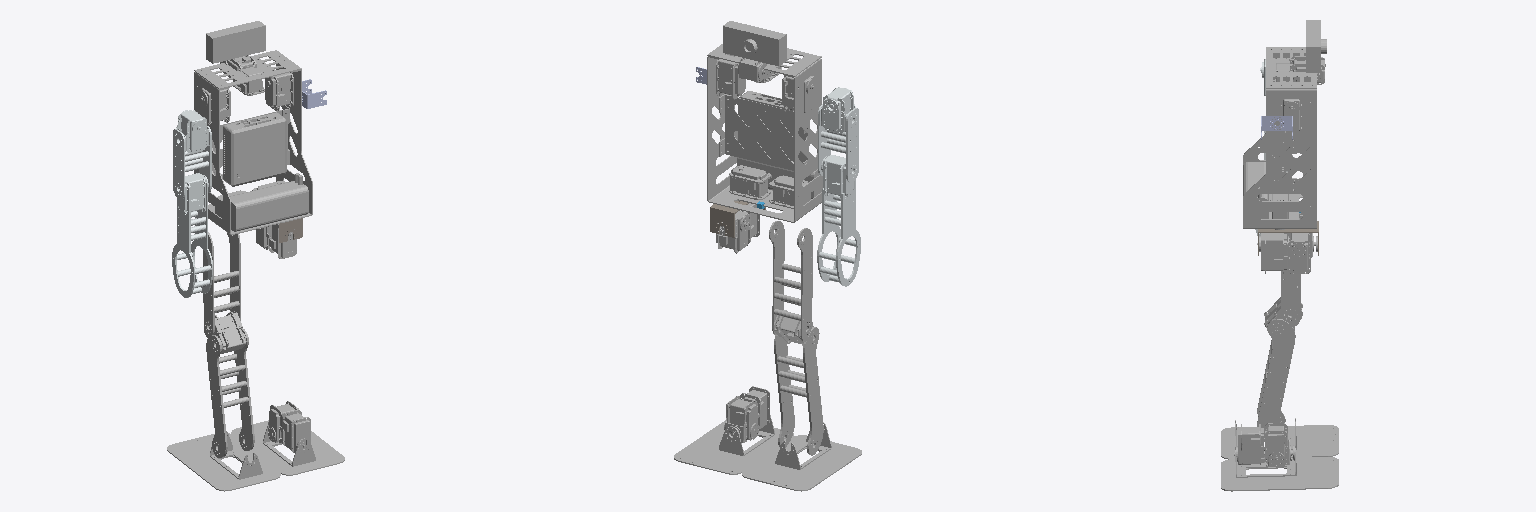
--- Render facts (derived) ---
The picture shows the robot from 3 angles, left to right: view 1: azimuth 30°, elevation 25°; view 2: azimuth 150°, elevation 25°; view 3: azimuth 270°, elevation 25°; orthographic projection.
Robot: SAKURA — 30 links, 29 joints (8 revolute, 19 continuous, 1 fixed, 1 floating); root link world; default pose: joints at zero except 8 at the middle of their limits (J_LLEG1_BACK = 0.01, J_LLEG2_BACK = 0.01, J_LLEG3_BACK = 0.01, J_LLEG4_BACK = 0.01, J_RLEG1_BACK = 0.01, J_RLEG2_BACK = 0.01, +2 more).
Visible links, largest first — view 1: TRUNK, LFOOT, LLEG3, LARM2, LLEG2, LARM1, RFOOT, HEAD, RLEG4, RLEG1; view 2: TRUNK, LFOOT, LARM2, LLEG2, LLEG3, RFOOT, LARM1, HEAD, RLEG4, RLEG1, RLEG0; view 3: TRUNK, RFOOT, LLEG3, RLEG4, RLEG1, LFOOT, LLEG2, HEAD.
Link boxes in pixels (x1,y1,x2,y2): TRUNK: (194,50,312,234); LFOOT: (167,431,280,491); LLEG3: (206,328,254,457); LARM2: (172,173,212,297); LLEG2: (203,232,246,353); LARM1: (173,110,211,199); RFOOT: (231,420,344,475); HEAD: (206,21,265,80); RLEG4: (268,401,310,452); RLEG1: (256,224,296,258); TRUNK: (707,44,822,222); LFOOT: (742,422,861,491); LARM2: (817,155,860,286); LLEG2: (769,221,813,345); LLEG3: (774,327,823,455); RFOOT: (674,415,793,474); LARM1: (818,87,858,182); HEAD: (723,21,786,82); RLEG4: (724,386,769,442); RLEG1: (716,203,759,253); RLEG0: (710,201,765,237); TRUNK: (1243,47,1316,229); RFOOT: (1221,445,1338,491); LLEG3: (1257,319,1295,437); RLEG4: (1234,423,1294,466); RLEG1: (1257,233,1317,273); LFOOT: (1221,418,1338,459); LLEG2: (1264,213,1302,331); HEAD: (1289,20,1326,84).
Bounding box of the posed robot: 0.2953 × 0.208 × 0.8198 m (x, y, z).
12 mesh visuals loaded from 20 distinct referenced files (12 binary STL); not drawn: 8 (reference not matched to a file when rendering).

URDF robot description (SAKURA):
<?xml version="1.0"?>
<robot
  name="SAKURA">	
  <gazebo reference="imu_link">
    <gravity>true</gravity>
    <sensor name="imu_sensor" type="imu">
      <always_on>true</always_on>
      <update_rate>125</update_rate>
      <visualize>true</visualize>
      <topic>__default_topic__</topic>
      <plugin filename="libgazebo_ros_imu_sensor.so" name="imu_plugin">
        <topicName>imu/data_raw</topicName>
        <bodyName>imu_link</bodyName>
        <updateRateHZ>125.0</updateRateHZ>
        <gaussianNoise>0.0</gaussianNoise>
        <xyzOffset>0 0 0</xyzOffset>
        <rpyOffset>0 0 0</rpyOffset>
        <frameName>imu_link</frameName>
      </plugin>
      <pose>0 0 0 0 0 0</pose>
    </sensor>
  </gazebo>
  <gazebo>
    <plugin filename="libgazebo_ros_control.so" name="gazebo_ros_control">
      <robotNamespace>/SAKURA</robotNamespace>
      <robotSimType>gazebo_ros_control/DefaultRobotHWSim</robotSimType>
    </plugin>
  </gazebo>
  <gazebo reference="J_HEAD">
	<stopErp>0.2</stopErp>
	<provideFeedback>true</provideFeedback>
  </gazebo>  
  <gazebo reference="J_LARM0">
	<stopErp>0.2</stopErp>
	<provideFeedback>true</provideFeedback>
  </gazebo>  
  <gazebo reference="J_LARM1">
	<stopErp>0.2</stopErp>
	<provideFeedback>true</provideFeedback>
  </gazebo>  
  <gazebo reference="J_LARM2">
	<stopErp>0.2</stopErp>
	<provideFeedback>true</provideFeedback>
  </gazebo>  
  <gazebo reference="J_RARM0">
	<stopErp>0.2</stopErp>
	<provideFeedback>true</provideFeedback>
  </gazebo>  
  <gazebo reference="J_RARM1">
	<stopErp>0.2</stopErp>
	<provideFeedback>true</provideFeedback>
  </gazebo>  
  <gazebo reference="J_LLEG0">
	<stopErp>0.2</stopErp>
	<provideFeedback>true</provideFeedback>
  </gazebo>  
  <gazebo reference="J_LLEG1">
	<stopErp>0.2</stopErp>
	<provideFeedback>true</provideFeedback>
  </gazebo>  
  <gazebo reference="J_LLEG2">
	<stopErp>0.2</stopErp>
	<provideFeedback>true</provideFeedback>
  </gazebo>  
  <gazebo reference="J_LLEG3">
	<stopErp>0.2</stopErp>
	<provideFeedback>true</provideFeedback>
  </gazebo>  
  <gazebo reference="J_LLEG4">
	<stopErp>0.2</stopErp>
	<provideFeedback>true</provideFeedback>
  </gazebo>  
  <gazebo reference="J_RLEG0">
	<stopErp>0.2</stopErp>
	<provideFeedback>true</provideFeedback>
  </gazebo>  
  <gazebo reference="J_RLEG1">
	<stopErp>0.2</stopErp>
	<provideFeedback>true</provideFeedback>
  </gazebo>  
  <gazebo reference="J_RLEG2">
	<stopErp>0.2</stopErp>
	<provideFeedback>true</provideFeedback>
  </gazebo>  
  <gazebo reference="J_RLEG3">
	<stopErp>0.2</stopErp>
	<provideFeedback>true</provideFeedback>
  </gazebo>  
  <gazebo reference="J_RLEG4">
	<stopErp>0.2</stopErp>
	<provideFeedback>true</provideFeedback>
  </gazebo> 
  <gazebo reference="J_RARM2">
	<stopErp>0.2</stopErp>
	<provideFeedback>true</provideFeedback>
  </gazebo> 
  <gazebo reference="J_LFOOT">
	<stopErp>0.2</stopErp>
	<provideFeedback>true</provideFeedback>
  </gazebo>  
  <gazebo reference="J_RFOOT">
	<stopErp>0.2</stopErp>
	<provideFeedback>true</provideFeedback>
  </gazebo>  
  <gazebo reference="RFOOT">
    <mu1>1.0</mu1>
    <mu2>1.0</mu2>
    <kp>1220000.0</kp>
    <kd>1.0</kd> <!---->
  </gazebo>
  <gazebo reference="LFOOT">
    <mu1>1.0</mu1>
    <mu2>1.0</mu2>
    <kp>1220000.0</kp>
    <kd>1.0</kd> <!---->
  </gazebo>
  
<!-- FT SENSORS -->
  <gazebo>
	<plugin name="ft_sensor" filename="libgazebo_ros_ft_sensor.so">
	  <updateRate>100.0</updateRate>
	  <topicName>ft_sensor_larm0</topicName>
	  <jointName>J_LARM0</jointName>
	</plugin>
  </gazebo>
  <gazebo>
	<plugin name="ft_sensor" filename="libgazebo_ros_ft_sensor.so">
	  <updateRate>100.0</updateRate>
	  <topicName>ft_sensor_larm1</topicName>
	  <jointName>J_LARM1</jointName>
	</plugin>
  </gazebo>
  <gazebo>
	<plugin name="ft_sensor" filename="libgazebo_ros_ft_sensor.so">
	  <updateRate>100.0</updateRate>
	  <topicName>ft_sensor_larm2</topicName>
	  <jointName>J_LARM2</jointName>
	</plugin>
  </gazebo>
  
  
    <gazebo>
	<plugin name="ft_sensor" filename="libgazebo_ros_ft_sensor.so">
	  <updateRate>100.0</updateRate>
	  <topicName>ft_sensor_rarm0</topicName>
	  <jointName>J_RARM0</jointName>
	</plugin>
  </gazebo>
  <gazebo>
	<plugin name="ft_sensor" filename="libgazebo_ros_ft_sensor.so">
	  <updateRate>100.0</updateRate>
	  <topicName>ft_sensor_rarm1</topicName>
	  <jointName>J_RARM1</jointName>
	</plugin>
  </gazebo>
  <gazebo>
	<plugin name="ft_sensor" filename="libgazebo_ros_ft_sensor.so">
	  <updateRate>100.0</updateRate>
	  <topicName>ft_sensor_rarm2</topicName>
	  <jointName>J_RARM2</jointName>
	</plugin>
  </gazebo>
  
  
  
  <gazebo>
	<plugin name="ft_sensor" filename="libgazebo_ros_ft_sensor.so">
	  <updateRate>100.0</updateRate>
	  <topicName>ft_sensor_lleg0</topicName>
	  <jointName>J_LLEG0</jointName>
	</plugin>
  </gazebo>
    <gazebo>
	<plugin name="ft_sensor" filename="libgazebo_ros_ft_sensor.so">
	  <updateRate>100.0</updateRate>
	  <topicName>ft_sensor_lleg1</topicName>
	  <jointName>J_LLEG1</jointName>
	</plugin>
  </gazebo>
    <gazebo>
	<plugin name="ft_sensor" filename="libgazebo_ros_ft_sensor.so">
	  <updateRate>100.0</updateRate>
	  <topicName>ft_sensor_lleg2</topicName>
	  <jointName>J_LLEG2</jointName>
	</plugin>
  </gazebo>
    <gazebo>
	<plugin name="ft_sensor" filename="libgazebo_ros_ft_sensor.so">
	  <updateRate>100.0</updateRate>
	  <topicName>ft_sensor_lleg3</topicName>
	  <jointName>J_LLEG3</jointName>
	</plugin>
  </gazebo>
    <gazebo>
	<plugin name="ft_sensor" filename="libgazebo_ros_ft_sensor.so">
	  <updateRate>100.0</updateRate>
	  <topicName>ft_sensor_lleg4</topicName>
	  <jointName>J_LLEG4</jointName>
	</plugin>
  </gazebo>
    <gazebo>
	<plugin name="ft_sensor" filename="libgazebo_ros_ft_sensor.so">
	  <updateRate>100.0</updateRate>
	  <topicName>ft_sensor_lfoot</topicName>
	  <jointName>J_LFOOT</jointName>
	</plugin>
  </gazebo>
  
    <gazebo>
	<plugin name="ft_sensor" filename="libgazebo_ros_ft_sensor.so">
	  <updateRate>100.0</updateRate>
	  <topicName>ft_sensor_rleg0</topicName>
	  <jointName>J_RLEG0</jointName>
	</plugin>
  </gazebo>
    <gazebo>
	<plugin name="ft_sensor" filename="libgazebo_ros_ft_sensor.so">
	  <updateRate>100.0</updateRate>
	  <topicName>ft_sensor_rleg1</topicName>
	  <jointName>J_RLEG1</jointName>
	</plugin>
  </gazebo>
    <gazebo>
	<plugin name="ft_sensor" filename="libgazebo_ros_ft_sensor.so">
	  <updateRate>100.0</updateRate>
	  <topicName>ft_sensor_rleg2</topicName>
	  <jointName>J_RLEG2</jointName>
	</plugin>
  </gazebo>
    <gazebo>
	<plugin name="ft_sensor" filename="libgazebo_ros_ft_sensor.so">
	  <updateRate>100.0</updateRate>
	  <topicName>ft_sensor_rleg3</topicName>
	  <jointName>J_RLEG3</jointName>
	</plugin>
  </gazebo>
    <gazebo>
	<plugin name="ft_sensor" filename="libgazebo_ros_ft_sensor.so">
	  <updateRate>100.0</updateRate>
	  <topicName>ft_sensor_rleg4</topicName>
	  <jointName>J_RLEG4</jointName>
	</plugin>
  </gazebo>
    <gazebo>
	<plugin name="ft_sensor" filename="libgazebo_ros_ft_sensor.so">
	  <updateRate>100.0</updateRate>
	  <topicName>ft_sensor_rfoot</topicName>
	  <jointName>J_RFOOT</jointName>
	</plugin>
  </gazebo>
  
  
  

  <link name="world">  </link>
  
  <link name="imu_link">
    <collision>
      <origin xyz="0 0 0" rpy="0 0 0"/>
      <geometry>
    <box size="0.01 0.01 0.01"/>
      </geometry>
    </collision>

    <visual>
      <origin xyz="0 0 0" rpy="0 0 0"/>
      <geometry>
    <box size="0.01 0.01 0.01"/>
      </geometry>
      <material name="red"/>
    </visual>

    <inertial>
      <mass value="1e-5" />
      <origin xyz="0 0 0" rpy="0 0 0"/>
      <inertia ixx="1e-6" ixy="0" ixz="0" iyy="1e-6" iyz="0" izz="1e-6" />
    </inertial>
  </link>
  <joint name="imu_joint" type="fixed">
    <axis xyz="-1 0 0" />
    <origin xyz="0 0 0" rpy="0 0 0"/>
    <parent link="TRUNK"/>
    <child link="imu_link"/>
  </joint>
  
  
  
  
  <link
    name="TRUNK">
    <inertial>
      <origin
        xyz="-0.000142944293532541 -0.0159940135836359 0.119253638413231"
        rpy="0 0 0" />
      <mass
        value="1.4778155091901" />
      <inertia
        ixx="0.0125398154437975"
        ixy="-2.68478156217668E-06"
        ixz="-7.17353402812125E-06"
        iyy="0.016695640033345"
        iyz="0.000776177026664091"
        izz="0.01567882258573842" />
    </inertial>
    <visual>
      <origin
        xyz="0 0 0"
        rpy="0 0 0" />
      <geometry>
        <mesh
          filename="package://sakura_description/meshes/TRUNK.STL" />
      </geometry>
      <material
        name="">
        <color
          rgba="0.752941176470588 0.752941176470588 0.752941176470588 1" />
      </material>
    </visual>
  </link>
  <joint name="fixed" type="floating">
    <parent link="world"/>
    <child link="TRUNK"/>
    <origin xyz="0 0 0.50" rpy="0 0 0"/>
  </joint>
  <link
    name="HEAD">
    <inertial>
      <origin
        xyz="-0.0038811 0.012249 0.048965"
        rpy="0 0 0" />
      <mass
        value="0.21462" />
      <inertia
        ixx="0.00110122"
        ixy="8.917E-07"
        ixz="4.6738E-06"
        iyy="0.001"
        iyz="-1.8633E-05"
        izz="0.001" />
    </inertial>
    <visual>
      <origin
        xyz="0 0 0"
        rpy="0 0 0" />
      <geometry>
        <mesh
          filename="package://sakura_description/meshes/HEAD.STL" />
      </geometry>
      <material
        name="">
        <color
          rgba="0.75294 0.75294 0.75294 1" />
      </material>
    </visual>
  </link>
  <joint
    name="J_HEAD"
    type="continuous">
    <origin
      xyz="0.0016 0.01125 0.2484"
      rpy="-1.2005E-15 -9.4278E-17 -2.3904E-16" />
    <parent
      link="TRUNK" />
    <child
      link="HEAD" />
    <axis
      xyz="0 0 1" />
    <limit
      effort="10"
      velocity="8.58" />
    <dynamics 
	  damping="0.7"
	  friction="0.5"/>
  </joint>
  <link
    name="LARM0">
    <inertial>
      <origin
        xyz="4.16333634234434E-17 2.77555756156289E-17 0.0103025666414173"
        rpy="0 0 0" />
      <mass
        value="0.0066175226097181" />
      <inertia
        ixx="1.E-03"
        ixy="0"
        ixz="0"
        iyy="1.E-03"
        iyz="0"
        izz="1.E-03" />
    </inertial>
    <visual>
      <origin
        xyz="0 0 0"
        rpy="0 0 0" />
      <geometry>
        <mesh
          filename="package://sakura_description/meshes/LARM0.STL" />
      </geometry>
      <material
        name="">
        <color
          rgba="0.792156862745098 0.819607843137255 0.933333333333333 1" />
      </material>
    </visual>
  </link>
  <joint
    name="J_LARM0"
    type="continuous">
    <origin
      xyz="-0.0935 -0.038 0.209"
      rpy="1.5708 3.14159 -1.5708" />
    <parent
      link="TRUNK" />
    <child
      link="LARM0" />
    <axis
      xyz="0 0 1" />
    <limit
      effort="10"
      velocity="8.58" />
    <dynamics 
     damping="0.7"
     friction="0.5"/>
  </joint>
  <link
    name="LARM1">
    <inertial>
      <origin
        xyz="-0.000203905909046856 -0.0358166170046635 -0.030724518771744"
        rpy="0 0 0" />
      <mass
        value="0.386889741732442" />
      <inertia
        ixx="0.001319462933467775"
        ixy="-7.00859671208955E-06"
        ixz="-6.33921748509821E-09"
        iyy="0.001"
        iyz="6.46973244600118E-07"
        izz="0.001386423060557297" />
    </inertial>
    <visual>
      <origin
        xyz="0 0 0"
        rpy="0 0 0" />
      <geometry>
        <mesh
          filename="package://sakura_description/meshes/LARM1.STL" />
      </geometry>
      <material
        name="">
        <color
          rgba="0.898039215686275 0.92156862745098 0.929411764705882 1" />
      </material>
    </visual>
  </link>
  <joint
    name="J_LARM1"
    type="continuous">
    <origin
      xyz="-0.0308 0 0.036"
      rpy="3.1416 1.5708 0" />
    <parent
      link="LARM0" />
    <child
      link="LARM1" />
    <axis
      xyz="0 0 -1" />
    <limit
      effort="10"
      velocity="8.58" />
        <dynamics 
     damping="0.7"
     friction="0.5"/>
  </joint>
  <link
    name="LARM2">
    <inertial>
      <origin
        xyz="-0.000946892853796732 -0.0604743903550126 -0.030549305382329"
        rpy="0 0 0" />
      <mass
        value="0.417770884687889" />
      <inertia
        ixx="0.00130365609096481"
        ixy="-2.20058971275383E-05"
        ixz="-1.13235654810576E-07"
        iyy="0.001"
        iyz="-4.76741794550902E-06"
        izz="0.00130522583526536" />
    </inertial>
    <visual>
      <origin
        xyz="0 0 0"
        rpy="0 0 0" />
      <geometry>
        <mesh
          filename="package://sakura_description/meshes/LARM2.STL" />
      </geometry>
      <material
        name="">
        <color
          rgba="0.898039215686275 0.92156862745098 0.929411764705882 1" />
      </material>
    </visual>
  </link>
  <joint
    name="J_LARM2"
    type="continuous">
    <origin
      xyz="0.0307 -0.1235 -0.0308"
      rpy="0 1.5708 0" />
    <parent
      link="LARM1" />
    <child
      link="LARM2" />
    <axis
      xyz="0 0 -1" />
    <limit
      effort="10"
      velocity="8.58" />
        <dynamics 
     damping="0.7"
     friction="0.5"/>
  </joint>
  <link
    name="RARM0">
    <inertial>
      <origin
        xyz="-4.16333634234434E-17 0 0.0103025666414173"
        rpy="0 0 0" />
      <mass
        value="0.00661752260971814" />
      <inertia
        ixx="1.E-03"
        ixy="0"
        ixz="0"
        iyy="1.E-03"
        iyz="0"
        izz="1.E-03" />
    </inertial>
    <visual>
      <origin
        xyz="0 0 0"
        rpy="0 0 0" />
      <geometry>
        <mesh
          filename="package://sakura_description/meshes/RARM0.STL" />
      </geometry>
      <material
        name="">
        <color
          rgba="0.792156862745098 0.819607843137255 0.933333333333333 1" />
      </material>
    </visual>
  </link>
  <joint
    name="J_RARM0"
    type="continuous">
    <origin
      xyz="0.0935 -0.038 0.209"
      rpy="-1.5708 -6.1121E-16 -1.5708" />
    <parent
      link="TRUNK" />
    <child
      link="RARM0" />
    <axis
      xyz="0 0 1" />
    <limit
      effort="10"
      velocity="8.58" />
        <dynamics 
     damping="0.7"
     friction="0.5"/>
  </joint>
  <link
    name="RARM1">
    <inertial>
      <origin
        xyz="-0.00020391 -0.035817 -0.030725"
        rpy="0 0 0" />
      <mass
        value="0.38689" />
      <inertia
        ixx="0.00131946"
        ixy="-7.0086E-06"
        ixz="-6.3392E-09"
        iyy="0.001"
        iyz="6.4697E-07"
        izz="0.00138642" />
    </inertial>
    <visual>
      <origin
        xyz="0 0 0"
        rpy="0 0 0" />
      <geometry>
        <mesh
          filename="package://sakura_description/meshes/RARM1.STL" />
      </geometry>
      <material
        name="">
        <color
          rgba="0.89804 0.92157 0.92941 1" />
      </material>
    </visual>
  </link>
  <joint
    name="J_RARM1"
    type="continuous">
    <origin
      xyz="-0.0308 0 0.036"
      rpy="3.1416 1.5708 0" />
    <parent
      link="RARM0" />
    <child
      link="RARM1" />
    <axis
      xyz="0 0 1" />
    <limit
      effort="10"
      velocity="8.58" />
        <dynamics 
     damping="0.7"
     friction="0.5"/>
  </joint>
  <link
    name="RARM2">
    <inertial>
      <origin
        xyz="-0.000946892853796774 -0.0604743903550127 -0.0305493053823289"
        rpy="0 0 0" />
      <mass
        value="0.417770884687889" />
      <inertia
        ixx="0.00130365609096481"
        ixy="-2.20058971275389E-05"
        ixz="-1.13235654810633E-07"
        iyy="0.001"
        iyz="-4.76741794550966E-06"
        izz="0.00130522583526536" />
    </inertial>
    <visual>
      <origin
        xyz="0 0 0"
        rpy="0 0 0" />
      <geometry>
        <mesh
          filename="package://sakura_description/meshes/RARM2.STL" />
      </geometry>
      <material
        name="">
        <color
          rgba="0.898039215686275 0.92156862745098 0.929411764705882 1" />
      </material>
    </visual>
  </link>
  <joint
    name="J_RARM2"
    type="continuous">
    <origin
      xyz="0.0307 -0.1235 -0.0308"
      rpy="0 1.5708 0" />
    <parent
      link="RARM1" />
    <child
      link="RARM2" />
    <axis
      xyz="0 0 -1" />
    <limit
      effort="10"
      velocity="8.58" />
        <dynamics 
     damping="0.7"
     friction="0.5"/>
  </joint>
  <link
    name="LLEG0">
    <inertial>
      <origin
        xyz="1.38777878078145E-17 1.38777878078145E-17 0.012339611662812"
        rpy="0 0 0" />
      <mass
        value="0.137487098095279" />
      <inertia
        ixx="0.001"
        ixy="0"
        ixz="0"
        iyy="0.001"
        iyz="0"
        izz="0.001" />
    </inertial>
    <visual>
      <origin
        xyz="0 0 0"
        rpy="0 0 0" />
      <geometry>
        <mesh
          filename="package://sakura_description/meshes/LLEG0.STL" />
      </geometry>
      <material
        name="">
        <color
          rgba="0.650980392156863 0.619607843137255 0.588235294117647 1" />
      </material>
    </visual>
  </link>
  <joint
    name="J_LLEG0"
    type="continuous">
    <origin
      xyz="-0.055 -0.018 -0.005"
      rpy="-3.14159265358979 1.21430643318376E-16 -1.5707963267949" />
    <parent
      link="TRUNK" />
    <child
      link="LLEG0" />
    <axis
      xyz="0 0 1" />
    <limit
      effort="10"
      velocity="8.58" />
        <dynamics 
     damping="0.7"
     friction="0.5"/>
  </joint>
  <link
    name="LLEG1">
    <inertial>
      <origin
        xyz="-4.90216563097182E-05 -0.014933566350856 -0.0542307430726147"
        rpy="0 0 0" />
      <mass
        value="0.484317524341268" />
      <inertia
        ixx="0.001258532465487086"
        ixy="-1.08430216395215E-08"
        ixz="-4.93107012410751E-07"
        iyy="0.001256538006237082"
        iyz="8.86337248194806E-06"
        izz="0.001" />
    </inertial>
    <visual>
      <origin
        xyz="0 0 0"
        rpy="0 0 0" />
      <geometry>
        <mesh
          filename="package://sakura_description/meshes/LLEG1.STL" />
      </geometry>
      <material
        name="">
        <color
          rgba="0.752941176470588 0.752941176470588 0.752941176470588 1" />
      </material>
    </visual>
  </link>
  <joint
    name="J_LLEG1"
    type="continuous">
    <origin
      xyz="0.056 0 0.036"
      rpy="-1.5707963267949 -1.22338662637834E-16 -1.5707963267949" />
    <parent
      link="LLEG0" />
    <child
      link="LLEG1" />
    <axis
      xyz="0 0 -1" />
    <limit
      effort="10"
      velocity="8.58" />
        <dynamics 
     damping="0.7"
     friction="0.5"/>
  </joint>
  
  <link
    name="LLEG1_BACK">
    <inertial>
      <origin
        xyz="0 0 0"
        rpy="0 0 0" />
      <mass
        value="0.001" />
      <inertia
        ixx="0.00001"
        ixy="-8.9555E-06"
        ixz="-2.1884E-05"
        iyy="0.00001"
        iyz="-1.9325E-05"
        izz="0.00001" />
    </inertial>
  </link>
  <joint
    name="J_LLEG1_BACK"
    type="revolute">
    <origin
      xyz="0 0 0"
      rpy="0 0 0" />
    <parent
      link="LLEG1" />
    <child
      link="LLEG1_BACK" />
    <axis
      xyz="0 0 1" />
    <limit
      upper="0.01"
      lower="0.01"
      effort="10"
      velocity="8.58" />
        <dynamics 
     damping="0.7"
     friction="0.5"/>
  </joint>
  
  
  <link
    name="LLEG2">
    <inertial>
      <origin
        xyz="0.0896135033902749 -0.121669815792639 -0.0285739776731877"
        rpy="0 0 0" />
      <mass
        value="0.429581814867276" />
      <inertia
        ixx="0.001739443276879588"
        ixy="0.000469298592224479"
        ixz="-4.17657698668898E-06"
        iyy="0.00145781924000273"
        iyz="4.49877955818474E-06"
        izz="0.00100793675092908" />
    </inertial>
    <visual>
      <origin
        xyz="0 0 0"
        rpy="0 0 0" />
      <geometry>
        <mesh
          filename="package://sakura_description/meshes/LLEG2.STL" />
      </geometry>
      <material
        name="">
        <color
          rgba="0.752941176470588 0.752941176470588 0.752941176470588 1" />
      </material>
    </visual>
  </link>
  <joint
    name="J_LLEG2"
    type="continuous">
    <origin
      xyz="0.0289999999999999 0 -0.0750000000000234"
      rpy="-1.5707963267949 0.78539816339745 -1.5707963267949" />
    <parent
      link="LLEG1_BACK" />
    <child
      link="LLEG2" />
    <axis
      xyz="0 0 1" />
    <limit
      effort="10"
      velocity="8.58" />
        <dynamics 
     damping="0.7"
     friction="0.5"/>
  </joint>
  
  <link
    name="LLEG2_BACK">
    <inertial>
      <origin
        xyz="0 0 0"
        rpy="0 0 0" />
      <mass
        value="0.001" />
      <inertia
        ixx="0.00001"
        ixy="-8.9555E-06"
        ixz="-2.1884E-05"
        iyy="0.00001"
        iyz="-1.9325E-05"
        izz="0.00001" />
    </inertial>
  </link>
  <joint
    name="J_LLEG2_BACK"
    type="revolute">
    <origin
      xyz="0 0 0"
      rpy="0 0 0" />
    <parent
      link="LLEG2" />
    <child
      link="LLEG2_BACK" />
    <axis
      xyz="0 0 1" />
    <limit
      upper="0.01"
      lower="0.01"
      effort="10"
      velocity="8.58" />
        <dynamics 
     damping="0.7"
     friction="0.5"/>
  </joint>
  
  
  <link
    name="LLEG3">
    <inertial>
      <origin
        xyz="0.0938607247050214 0.021121469241447 -0.0266864244548486"
        rpy="0 0 0" />
      <mass
        value="0.253457988874213" />
      <inertia
        ixx="0.001157893827081503"
        ixy="4.33507693026071E-06"
        ixz="2.38137513758817E-06"
        iyy="0.001215254509125973"
        iyz="4.49605098935315E-06"
        izz="0.001" />
    </inertial>
    <visual>
      <origin
        xyz="0 0 0"
        rpy="0 0 0" />
      <geometry>
        <mesh
          filename="package://sakura_description/meshes/LLEG3.STL" />
      </geometry>
      <material
        name="">
        <color
          rgba="0.752941176470588 0.752941176470588 0.752941176470588 1" />
      </material>
    </visual>
  </link>
  <joint
    name="J_LLEG3"
    type="continuous">
    <origin
      xyz="0.112429978208667 -0.169643181644254 0.00160000000000024"
      rpy="-0.0320557226319531 0.0283578707512148 -1.01721646459287" />
    <parent
      link="LLEG2_BACK" />
    <child
      link="LLEG3" />
    <axis
      xyz="-0.0283540701513945 -0.0320373469653184 0.999084408398647" />
    <limit
      effort="10"
      velocity="8.58" />
        <dynamics 
     damping="0.7"
     friction="0.5"/>  
  </joint>
  
    <link
    name="LLEG3_BACK">
    <inertial>
      <origin
        xyz="0 0 0"
        rpy="0 0 0" />
      <mass
        value="0.001" />
      <inertia
        ixx="0.00001"
        ixy="-8.9555E-06"
        ixz="-2.1884E-05"
        iyy="0.00001"
        iyz="-1.9325E-05"
        izz="0.00001" />
    </inertial>
  </link>
  <joint
    name="J_LLEG3_BACK"
    type="revolute">
    <origin
      xyz="0 0 0"
      rpy="0 0 0" />
    <parent
      link="LLEG3" />
    <child
      link="LLEG3_BACK" />
    <axis
      xyz="0 0 1" />
    <limit
      upper="0.01"
      lower="0.01"
      effort="10"
      velocity="8.58" />
        <dynamics 
     damping="0.7"
     friction="0.5"/>
  </joint>

  
  
  <link
    name="LLEG4">
    <inertial>
      <origin
        xyz="0.0207692569273853 -0.0149335663508559 -0.0309509783436903"
        rpy="0 0 0" />
      <mass
        value="0.484317524341267" />
      <inertia
        ixx="0.001"
        ixy="8.86337248194725E-06"
        ixz="4.93107012410836E-07"
        iyy="0.001256538006237082"
        iyz="1.08430216395228E-08"
        izz="0.001258532465487085" />
    </inertial>
    <visual>
      <origin
        xyz="0 0 0"
        rpy="0 0 0" />
      <geometry>
        <mesh
          filename="package://sakura_description/meshes/LLEG4.STL" />
      </geometry>
      <material
        name="">
        <color
          rgba="0.752941176470588 0.752941176470588 0.752941176470588 1" />
      </material>
    </visual>
  </link>
  <joint
    name="J_LLEG4"
    type="continuous">
    <origin
      xyz="0.19759 0.040682 0.007913"
      rpy="0.034963 0.024684 -1.339" />
    <parent
      link="LLEG3_BACK" />
    <child
      link="LLEG4" />
    <axis
      xyz="0 0 -1" />
    <limit
      effort="10"
      velocity="8.58" />
        <dynamics 
     damping="0.7"
     friction="0.5"/>
  </joint>
  
  <link
    name="LLEG4_BACK">
    <inertial>
      <origin
        xyz="0 0 0"
        rpy="0 0 0" />
      <mass
        value="0.001" />
      <inertia
        ixx="0.00001"
        ixy="-8.9555E-06"
        ixz="-2.1884E-05"
        iyy="0.00001"
        iyz="-1.9325E-05"
        izz="0.00001" />
    </inertial>
  </link>
  <joint
    name="J_LLEG4_BACK"
    type="revolute">
    <origin
      xyz="0 0 0"
      rpy="0 0 0" />
    <parent
      link="LLEG4" />
    <child
      link="LLEG4_BACK" />
    <axis
      xyz="0 0 1" />
    <limit
      upper="0.01"
      lower="0.01"
      effort="10"
      velocity="8.58" />
        <dynamics 
     damping="0.1"
     friction="0.1"/>
  </joint>
  
  <link
    name="LFOOT">
    <inertial>
      <origin
        xyz="-0.00984398078216434 0.033081446163245 0.0742424926896279"
        rpy="0 0 0" />
      <mass
        value="0.474832547151362" />
      <inertia
        ixx="0.001"
        ixy="8.95545085142721E-06"
        ixz="2.1883900378474E-05"
        iyy="0.001"
        iyz="-1.93251189181957E-05"
        izz="0.001" />
    </inertial>
    <visual>
      <origin
        xyz="0 0 0"
        rpy="0 0 0" />
      <geometry>
        <mesh
          filename="package://sakura_description/meshes/LFOOT.STL" />
      </geometry>
      <material
        name="">
        <color
          rgba="0.752941176470588 0.752941176470588 0.752941176470588 1" />
      </material>
    </visual>
    <collision>
      <origin
        xyz="0 0 0"
        rpy="0 0 0" />
      <geometry>
        <mesh
          filename="package://sakura_description/meshes/LFOOT.STL" />
      </geometry>
    </collision>
  </link>
  <joint
    name="J_LFOOT"
    type="continuous">
    <origin
      xyz="0.072 0 -0.031"
      rpy="0 -1.5708 0" />
    <parent
      link="LLEG4_BACK" />
    <child
      link="LFOOT" />
    <axis
      xyz="0 0 -1" />
    <limit
      effort="10"
      velocity="8.58" />
        <dynamics 
     damping="0.7"
     friction="0.5"/>
  </joint>
  <link
    name="RLEG0">
    <inertial>
      <origin
        xyz="0 1.38777878078145E-17 0.012339611662812"
        rpy="0 0 0" />
      <mass
        value="0.137487098095279" />
      <inertia
        ixx="0.001"
        ixy="0"
        ixz="0"
        iyy="0.001"
        iyz="0"
        izz="0.001" />
    </inertial>
    <visual>
      <origin
        xyz="0 0 0"
        rpy="0 0 0" />
      <geometry>
        <mesh
          filename="package://sakura_description/meshes/RLEG0.STL" />
      </geometry>
      <material
        name="">
        <color
          rgba="0.650980392156863 0.619607843137255 0.588235294117647 1" />
      </material>
    </visual>
  </link>
  <joint
    name="J_RLEG0"
    type="continuous">
    <origin
      xyz="0.055 -0.018 -0.005"
      rpy="-3.14159265358979 1.21430643318376E-16 -1.5707963267949" />
    <parent
      link="TRUNK" />
    <child
      link="RLEG0" />
    <axis
      xyz="0 0 1" />
    <limit
      effort="10"
      velocity="8.58" />
        <dynamics 
     damping="0.7"
     friction="0.5"/>
  </joint>
  <link
    name="RLEG1">
    <inertial>
      <origin
        xyz="-4.9022E-05 -0.014934 -0.054231"
        rpy="0 0 0" />
      <mass
        value="0.48432" />
      <inertia
        ixx="0.00125853"
        ixy="-1.0843E-08"
        ixz="-4.9311E-07"
        iyy="0.00125654"
        iyz="8.8634E-06"
        izz="0.001" />
    </inertial>
    <visual>
      <origin
        xyz="0 0 0"
        rpy="0 0 0" />
      <geometry>
        <mesh
          filename="package://sakura_description/meshes/RLEG1.STL" />
      </geometry>
      <material
        name="">
        <color
          rgba="0.75294 0.75294 0.75294 1" />
      </material>
    </visual>
  </link>
  <joint
    name="J_RLEG1"
    type="continuous">
    <origin
      xyz="0.056 0 0.036"
      rpy="-1.5707963267949 2.66239395980971E-16 -1.5707963267949" />
    <parent
      link="RLEG0" />
    <child
      link="RLEG1" />
    <axis
      xyz="0 0 -1" />
    <limit
      effort="10"
      velocity="8.58" />
        <dynamics 
     damping="0.7"
     friction="0.5"/>
  </joint>
  
    <link
    name="RLEG1_BACK">
    <inertial>
      <origin
        xyz="0 0 0"
        rpy="0 0 0" />
      <mass
        value="0.001" />
      <inertia
        ixx="0.00001"
        ixy="-8.9555E-06"
        ixz="-2.1884E-05"
        iyy="0.00001"
        iyz="-1.9325E-05"
        izz="0.00001" />
    </inertial>
  </link>
  <joint
    name="J_RLEG1_BACK"
    type="revolute">
    <origin
      xyz="0 0 0"
      rpy="0 0 0" />
    <parent
      link="RLEG1" />
    <child
      link="RLEG1_BACK" />
    <axis
      xyz="0 0 1" />
    <limit
      upper="0.01"
      lower="0.01"
      effort="10"
      velocity="8.58" />
        <dynamics 
     damping="0.7"
     friction="0.5"/>
  </joint>

  
  <link
    name="RLEG2">
    <inertial>
      <origin
        xyz="0.089613503390275 -0.121669815792639 -0.0285739776731877"
        rpy="0 0 0" />
      <mass
        value="0.429581814867276" />
      <inertia
        ixx="0.001739443276879589"
        ixy="0.00046929859222448"
        ixz="-4.17657698668821E-06"
        iyy="0.001457819240002731"
        iyz="4.49877955818371E-06"
        izz="0.00100793675092908" />
    </inertial>
    <visual>
      <origin
        xyz="0 0 0"
        rpy="0 0 0" />
      <geometry>
        <mesh
          filename="package://sakura_description/meshes/RLEG2.STL" />
      </geometry>
      <material
        name="">
        <color
          rgba="0.752941176470588 0.752941176470588 0.752941176470588 1" />
      </material>
    </visual>
  </link>
  <joint
    name="J_RLEG2"
    type="continuous">
    <origin
      xyz="0.0290000000000001 0 -0.075"
      rpy="-1.5707963267949 0.78539816339745 -1.5707963267949" />
    <parent
      link="RLEG1_BACK" />
    <child
      link="RLEG2" />
    <axis
      xyz="0 0 -1" />
    <limit
      effort="10"
      velocity="8.58" />
        <dynamics 
     damping="0.7"
     friction="0.5"/>
  </joint>
  
    <link
    name="RLEG2_BACK">
    <inertial>
      <origin
        xyz="0 0 0"
        rpy="0 0 0" />
      <mass
        value="0.001" />
      <inertia
        ixx="0.00001"
        ixy="-8.9555E-06"
        ixz="-2.1884E-05"
        iyy="0.00001"
        iyz="-1.9325E-05"
        izz="0.00001" />
    </inertial>
  </link>
  <joint
    name="J_RLEG2_BACK"
    type="revolute">
    <origin
      xyz="0 0 0"
      rpy="0 0 0" />
    <parent
      link="RLEG2" />
    <child
      link="RLEG2_BACK" />
    <axis
      xyz="0 0 1" />
    <limit
      upper="0.01"
      lower="0.01"
      effort="10"
      velocity="8.58" />
        <dynamics 
     damping="0.7"
     friction="0.5"/>
  </joint>

  
  <link
    name="RLEG3">
    <inertial>
      <origin
        xyz="0.093861 0.021121 -0.026686"
        rpy="0 0 0" />
      <mass
        value="0.25346" />
      <inertia
        ixx="0.00115789"
        ixy="4.3351E-06"
        ixz="2.3814E-06"
        iyy="0.00121525"
        iyz="4.4961E-06"
        izz="0.001" />
    </inertial>
    <visual>
      <origin
        xyz="0 0 0"
        rpy="0 0 0" />
      <geometry>
        <mesh
          filename="package://sakura_description/meshes/RLEG3.STL" />
      </geometry>
      <material
        name="">
        <color
          rgba="0.75294 0.75294 0.75294 1" />
      </material>
    </visual>
  </link>
  <joint
    name="J_RLEG3"
    type="continuous">
    <origin
      xyz="0.112429978208668 -0.169643181644253 0.00160000000000014"
      rpy="-0.0320557226319534 0.0283578707512146 -1.01721646459286" />
    <parent
      link="RLEG2_BACK" />
    <child
      link="RLEG3" />
    <axis
      xyz="0.0283540701513948 0.0320373469653193 -0.999084408398647" />
    <limit
      effort="10"
      velocity="8.58" />
        <dynamics 
     damping="0.7"
     friction="0.5"/>
  </joint>
    <link
    name="RLEG3_BACK">
    <inertial>
      <origin
        xyz="0 0 0"
        rpy="0 0 0" />
      <mass
        value="0.001" />
      <inertia
        ixx="0.00001"
        ixy="-8.9555E-06"
        ixz="-2.1884E-05"
        iyy="0.00001"
        iyz="-1.9325E-05"
        izz="0.00001" />
    </inertial>
  </link>
  <joint
    name="J_RLEG3_BACK"
    type="revolute">
    <origin
      xyz="0 0 0"
      rpy="0 0 0" />
    <parent
      link="RLEG3" />
    <child
      link="RLEG3_BACK" />
    <axis
      xyz="0 0 1" />
    <limit
      upper="0.01"
      lower="0.01"
      effort="10"
      velocity="8.58" />
        <dynamics 
     damping="0.7"
     friction="0.5"/>
  </joint>

  
  <link
    name="RLEG4">
    <inertial>
      <origin
        xyz="0.0207692569273853 -0.014933566350856 -0.0309509783436903"
        rpy="0 0 0" />
      <mass
        value="0.484317524341268" />
      <inertia
        ixx="0.001"
        ixy="8.86337248194835E-06"
        ixz="4.93107012410999E-07"
        iyy="0.001256538006237082"
        iyz="1.08430216395282E-08"
        izz="0.001258532465487085" />
    </inertial>
    <visual>
      <origin
        xyz="0 0 0"
        rpy="0 0 0" />
      <geometry>
        <mesh
          filename="package://sakura_description/meshes/RLEG4.STL" />
      </geometry>
      <material
        name="">
        <color
          rgba="0.752941176470588 0.752941176470588 0.752941176470588 1" />
      </material>
    </visual>
  </link>
  <joint
    name="J_RLEG4"
    type="continuous">
    <origin
      xyz="0.19759 0.040682 0.007913"
      rpy="0.034963 0.024684 -1.339" />
    <parent
      link="RLEG3_BACK" />
    <child
      link="RLEG4" />
    <axis
      xyz="0 0 1" />
    <limit
      effort="10"
      velocity="8.58" />
        <dynamics 
     damping="0.7"
     friction="0.5"/>
  </joint>
  
  <link
    name="RLEG4_BACK">
    <inertial>
      <origin
        xyz="0 0 0"
        rpy="0 0 0" />
      <mass
        value="0.001" />
      <inertia
        ixx="0.00001"
        ixy="-8.9555E-06"
        ixz="-2.1884E-05"
        iyy="0.00001"
        iyz="-1.9325E-05"
        izz="0.00001" />
    </inertial>
  </link>
  <joint
    name="J_RLEG4_BACK"
    type="revolute">
    <origin
      xyz="0 0 0"
      rpy="0 0 0" />
    <parent
      link="RLEG4" />
    <child
      link="RLEG4_BACK" />
    <axis
      xyz="0 0 1" />
    <limit
      upper="0.01"
      lower="0.01"
      effort="10"
      velocity="8.58" />
        <dynamics 
     damping="0.1"
     friction="0.1"/>
  </joint>
  
  <link
    name="RFOOT">
    <inertial>
      <origin
        xyz="0.009844 0.033081 0.074242"
        rpy="0 0 0" />
      <mass
        value="0.47483" />
      <inertia
        ixx="0.001"
        ixy="-8.9555E-06"
        ixz="-2.1884E-05"
        iyy="0.001"
        iyz="-1.9325E-05"
        izz="0.001" />
    </inertial>
    <visual>
      <origin
        xyz="0 0 0"
        rpy="0 0 0" />
      <geometry>
        <mesh
          filename="package://sakura_description/meshes/RFOOT.STL" />
      </geometry>
      <material
        name="">
        <color
          rgba="0.75294 0.75294 0.75294 1" />
      </material>
    </visual>
    <collision>
      <origin
        xyz="0 0 0"
        rpy="0 0 0" />
      <geometry>
        <mesh
          filename="package://sakura_description/meshes/RFOOT.STL" />
      </geometry>
    </collision>
  </link>
  <joint
    name="J_RFOOT"
    type="continuous">
    <origin
      xyz="0.072 0 -0.031"
      rpy="0 -1.5708 0" />
    <parent
      link="RLEG4_BACK" />
    <child
      link="RFOOT" />
    <axis
      xyz="0 0 -1" />
    <limit
      effort="10"
      velocity="8.58" />
        <dynamics 
     damping="0.7"
     friction="0.5"/>
  </joint>
  
  <transmission name="T_RARM0">
	<type>transmission_interface/SimpleTransmission</type>
	<joint name="J_RARM0">
	  <hardwareInterface>hardware_interface/EffortJointInterface</hardwareInterface>
	</joint>
	<actuator name="M_RARM0">
	  <hardwareInterface>hardware_interface/EffortJointInterface</hardwareInterface>
	  <mechanicalReduction>1</mechanicalReduction>
	</actuator>
  </transmission>

  <transmission name="T_RARM1">
	<type>transmission_interface/SimpleTransmission</type>
	<joint name="J_RARM1">
	  <hardwareInterface>hardware_interface/EffortJointInterface</hardwareInterface>
	</joint>
	<actuator name="M_RARM1">
	  <hardwareInterface>hardware_interface/EffortJointInterface</hardwareInterface>
	  <mechanicalReduction>1</mechanicalReduction>
	</actuator>
  </transmission>
  
    <transmission name="T_RARM2">
	<type>transmission_interface/SimpleTransmission</type>
	<joint name="J_RARM2">
	  <hardwareInterface>hardware_interface/EffortJointInterface</hardwareInterface>
	</joint>
	<actuator name="M_RARM2">
	  <hardwareInterface>hardware_interface/EffortJointInterface</hardwareInterface>
	  <mechanicalReduction>1</mechanicalReduction>
	</actuator>
  </transmission>
  
    <transmission name="T_LARM0">
	<type>transmission_interface/SimpleTransmission</type>
	<joint name="J_LARM0">
	  <hardwareInterface>hardware_interface/EffortJointInterface</hardwareInterface>
	</joint>
	<actuator name="M_LARM0">
	  <hardwareInterface>hardware_interface/EffortJointInterface</hardwareInterface>
	  <mechanicalReduction>1</mechanicalReduction>
	</actuator>
  </transmission>

  <transmission name="T_LARM1">
	<type>transmission_interface/SimpleTransmission</type>
	<joint name="J_LARM1">
	  <hardwareInterface>hardware_interface/EffortJointInterface</hardwareInterface>
	</joint>
	<actuator name="M_LARM1">
	  <hardwareInterface>hardware_interface/EffortJointInterface</hardwareInterface>
	  <mechanicalReduction>1</mechanicalReduction>
	</actuator>
  </transmission>
  
    <transmission name="T_LARM2">
	<type>transmission_interface/SimpleTransmission</type>
	<joint name="J_LARM2">
	  <hardwareInterface>hardware_interface/EffortJointInterface</hardwareInterface>
	</joint>
	<actuator name="M_LARM2">
	  <hardwareInterface>hardware_interface/EffortJointInterface</hardwareInterface>
	  <mechanicalReduction>1</mechanicalReduction>
	</actuator>
  </transmission>

  
  
  
    <transmission name="T_RLEG0">
	<type>transmission_interface/SimpleTransmission</type>
	<joint name="J_RLEG0">
	  <hardwareInterface>hardware_interface/EffortJointInterface</hardwareInterface>
	</joint>
	<actuator name="M_RLEG0">
	  <hardwareInterface>hardware_interface/EffortJointInterface</hardwareInterface>
	  <mechanicalReduction>1</mechanicalReduction>
	</actuator>
  </transmission>

  <transmission name="T_RLEG1">
	<type>transmission_interface/SimpleTransmission</type>
	<joint name="J_RLEG1">
	  <hardwareInterface>hardware_interface/EffortJointInterface</hardwareInterface>
	</joint>
	<actuator name="M_RLEG1">
	  <hardwareInterface>hardware_interface/EffortJointInterface</hardwareInterface>
	  <mechanicalReduction>1</mechanicalReduction>
	</actuator>
  </transmission>
  
    <transmission name="T_RLEG2">
	<type>transmission_interface/SimpleTransmission</type>
	<joint name="J_RLEG2">
	  <hardwareInterface>hardware_interface/EffortJointInterface</hardwareInterface>
	</joint>
	<actuator name="M_RLEG2">
	  <hardwareInterface>hardware_interface/EffortJointInterface</hardwareInterface>
	  <mechanicalReduction>1</mechanicalReduction>
	</actuator>
  </transmission>
  
    <transmission name="T_RLEG3">
	<type>transmission_interface/SimpleTransmission</type>
	<joint name="J_RLEG3">
	  <hardwareInterface>hardware_interface/EffortJointInterface</hardwareInterface>
	</joint>
	<actuator name="M_RLEG3">
	  <hardwareInterface>hardware_interface/EffortJointInterface</hardwareInterface>
	  <mechanicalReduction>1</mechanicalReduction>
	</actuator>
  </transmission>
  
   <transmission name="T_RLEG4">
	<type>transmission_interface/SimpleTransmission</type>
	<joint name="J_RLEG4">
	  <hardwareInterface>hardware_interface/EffortJointInterface</hardwareInterface>
	</joint>
	<actuator name="M_RLEG4">
	  <hardwareInterface>hardware_interface/EffortJointInterface</hardwareInterface>
	  <mechanicalReduction>1</mechanicalReduction>
	</actuator>
  </transmission>
  
  <transmission name="T_RFOOT">
	<type>transmission_interface/SimpleTransmission</type>
	<joint name="J_RFOOT">
	  <hardwareInterface>hardware_interface/EffortJointInterface</hardwareInterface>
	</joint>
	<actuator name="M_RFOOT">
	  <hardwareInterface>hardware_interface/EffortJointInterface</hardwareInterface>
	  <mechanicalReduction>1</mechanicalReduction>
	</actuator>
  </transmission>


    <transmission name="T_LLEG0">
	<type>transmission_interface/SimpleTransmission</type>
	<joint name="J_LLEG0">
	  <hardwareInterface>hardware_interface/EffortJointInterface</hardwareInterface>
	</joint>
	<actuator name="M_LLEG0">
	  <hardwareInterface>hardware_interface/EffortJointInterface</hardwareInterface>
	  <mechanicalReduction>1</mechanicalReduction>
	</actuator>
  </transmission>

  <transmission name="T_LLEG1">
	<type>transmission_interface/SimpleTransmission</type>
	<joint name="J_LLEG1">
	  <hardwareInterface>hardware_interface/EffortJointInterface</hardwareInterface>
	</joint>
	<actuator name="M_LLEG1">
	  <hardwareInterface>hardware_interface/EffortJointInterface</hardwareInterface>
	  <mechanicalReduction>1</mechanicalReduction>
	</actuator>
  </transmission>
  
    <transmission name="T_LLEG2">
	<type>transmission_interface/SimpleTransmission</type>
	<joint name="J_LLEG2">
	  <hardwareInterface>hardware_interface/EffortJointInterface</hardwareInterface>
	</joint>
	<actuator name="M_LLEG2">
	  <hardwareInterface>hardware_interface/EffortJointInterface</hardwareInterface>
	  <mechanicalReduction>1</mechanicalReduction>
	</actuator>
  </transmission>
  
    <transmission name="T_LLEG3">
	<type>transmission_interface/SimpleTransmission</type>
	<joint name="J_LLEG3">
	  <hardwareInterface>hardware_interface/EffortJointInterface</hardwareInterface>
	</joint>
	<actuator name="M_LLEG3">
	  <hardwareInterface>hardware_interface/EffortJointInterface</hardwareInterface>
	  <mechanicalReduction>1</mechanicalReduction>
	</actuator>
  </transmission>
  
   <transmission name="T_LLEG4">
	<type>transmission_interface/SimpleTransmission</type>
	<joint name="J_LLEG4">
	  <hardwareInterface>hardware_interface/EffortJointInterface</hardwareInterface>
	</joint>
	<actuator name="M_LLEG4">
	  <hardwareInterface>hardware_interface/EffortJointInterface</hardwareInterface>
	  <mechanicalReduction>1</mechanicalReduction>
	</actuator>
  </transmission>
  
  <transmission name="T_LFOOT">
	<type>transmission_interface/SimpleTransmission</type>
	<joint name="J_LFOOT">
	  <hardwareInterface>hardware_interface/EffortJointInterface</hardwareInterface>
	</joint>
	<actuator name="M_LFOOT">
	  <hardwareInterface>hardware_interface/EffortJointInterface</hardwareInterface>
	  <mechanicalReduction>1</mechanicalReduction>
	</actuator>
  </transmission>



  
</robot>
